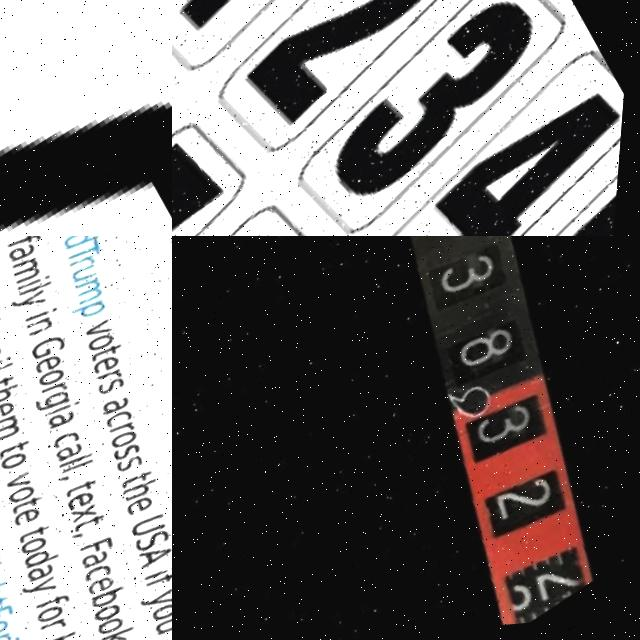1: (172, 0, 401, 47)
2: (210, 0, 503, 151), (526, 543, 612, 625), (492, 465, 575, 542)
3: (289, 0, 583, 236), (426, 236, 516, 320), (470, 388, 557, 470)
4: (367, 58, 630, 236)
5: (451, 163, 624, 236)
8: (446, 307, 540, 396)
Q: (0, 0, 172, 236)
